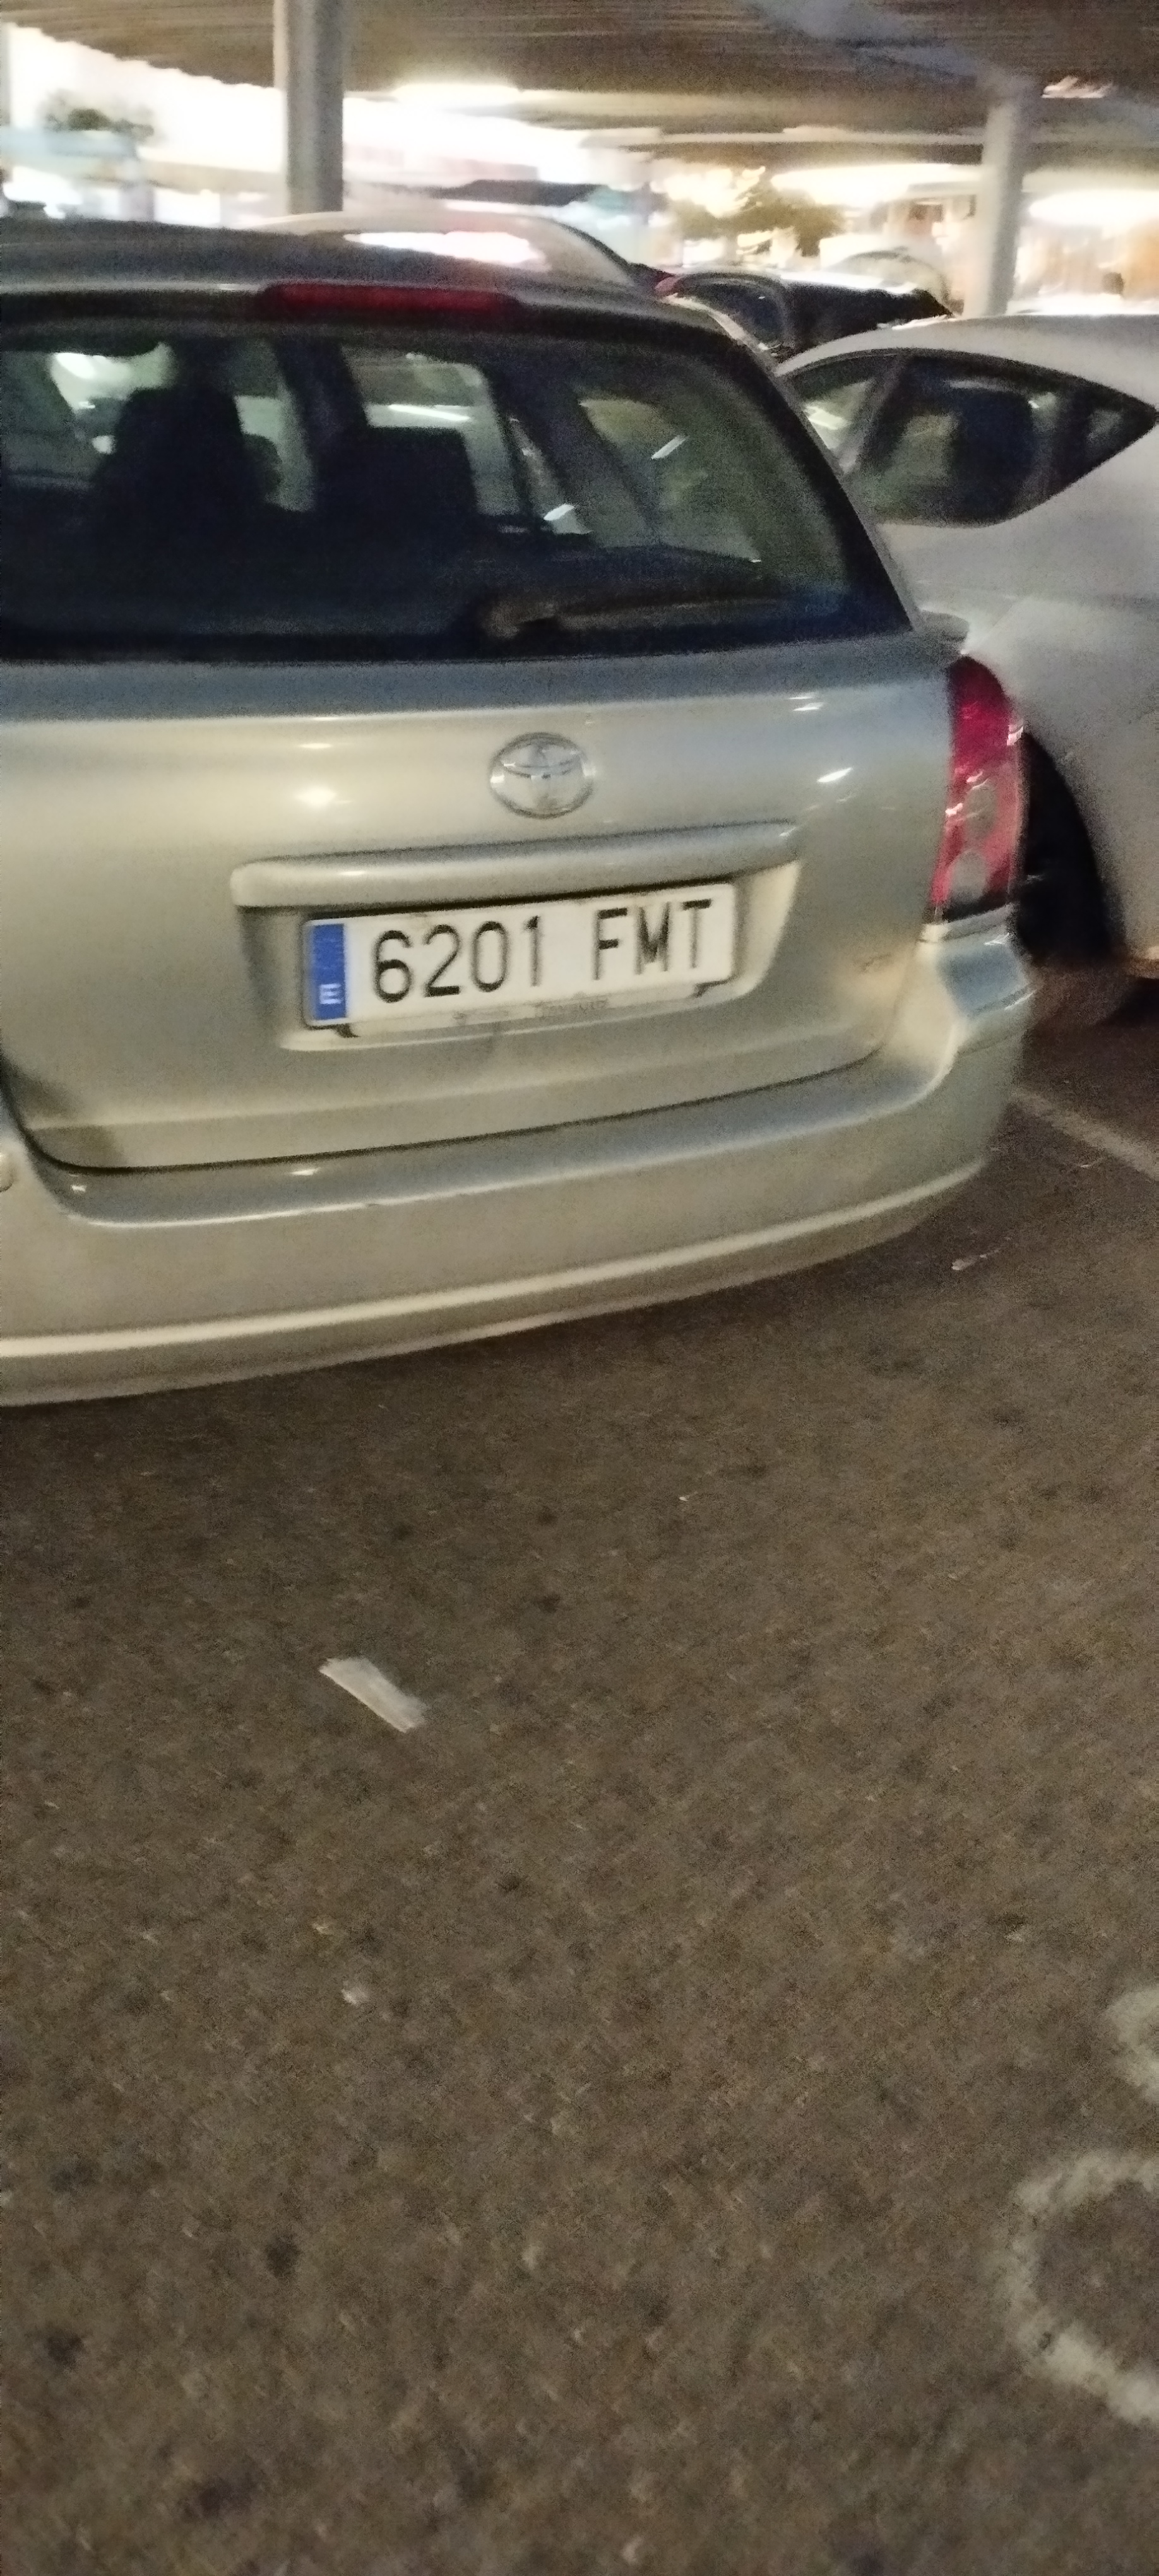Car: (0, 210, 1025, 1394)
Plate: (294, 924, 747, 1025)
